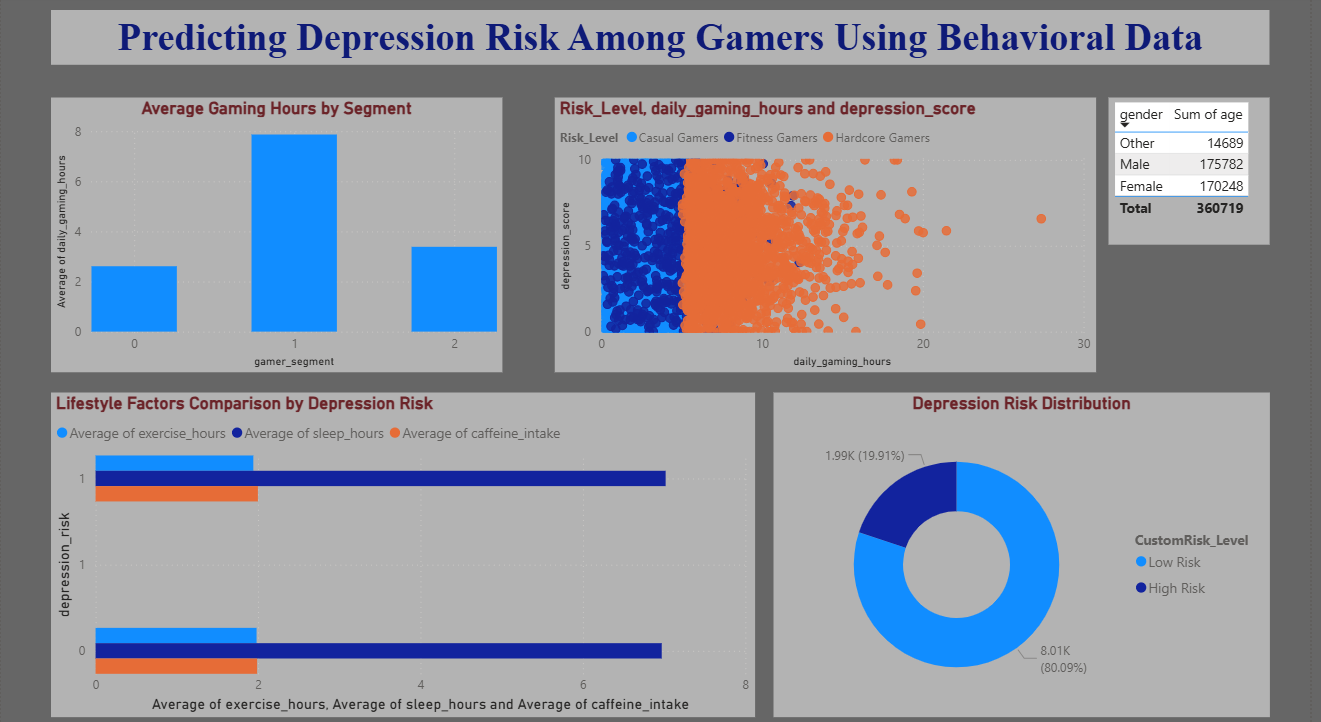

What the dashboard file says about the page in this screenshot:
{"tool":"powerbi","page":{"name":"Page 1","canvas":[1280,720],"ordinal":0},"visuals":[{"type":"donutChart","title":"Depression Risk Distribution","fields":{"Y":["CountNonNull(gaming_mental_health_dashboard.depression_risk)"],"Category":["gaming_mental_health_dashboard.CustomRisk_Level"]},"box":[755.7,388.9,485.5,317.9],"z":0},{"type":"scatterChart","fields":{"X":["gaming_mental_health_dashboard.daily_gaming_hours"],"Y":["gaming_mental_health_dashboard.depression_score"],"Series":["gaming_mental_health_dashboard.Risk_Level"]},"box":[541.7,100.3,529.5,269],"z":1000},{"type":"clusteredColumnChart","title":"Average Gaming Hours by Segment","fields":{"Category":["gaming_mental_health_dashboard.gamer_segment"],"Y":["Avg(gaming_mental_health_dashboard.daily_gaming_hours)"]},"box":[48.9,100.3,441.4,269],"z":2000},{"type":"clusteredBarChart","title":"Lifestyle Factors Comparison by Depression Risk","fields":{"Category":["gaming_mental_health_dashboard.depression_risk"],"Y":["Avg(gaming_mental_health_dashboard.exercise_hours)","Avg(gaming_mental_health_dashboard.sleep_hours)","Avg(gaming_mental_health_dashboard.caffeine_intake)"]},"box":[48.9,388.9,688.5,317.9],"z":3000},{"type":"textbox","box":[48.9,14.7,1192.3,53.8],"z":4000},{"type":"tableEx","fields":{"Values":["gaming_mental_health_dashboard.gender","Sum(gaming_mental_health_dashboard.age)"]},"box":[1083.4,100.3,157.7,144.3],"z":5000}]}

Visuals, with their boxes in screenshot pixels (x1, y1, x2, y2), scaled from the page's 1280x720 canvas onto the 1321x722 screenshot:
"Depression Risk Distribution" donutChart: detection(780, 390, 1281, 709)
scatterChart - gaming_mental_health_dashboard.daily_gaming_hours x gaming_mental_health_dashboard.depression_score: detection(559, 101, 1106, 370)
"Average Gaming Hours by Segment" clusteredColumnChart: detection(50, 101, 506, 370)
"Lifestyle Factors Comparison by Depression Risk" clusteredBarChart: detection(50, 390, 761, 709)
textbox: detection(50, 15, 1281, 69)
tableEx - gaming_mental_health_dashboard.gender x Sum(gaming_mental_health_dashboard.age): detection(1118, 101, 1281, 245)
